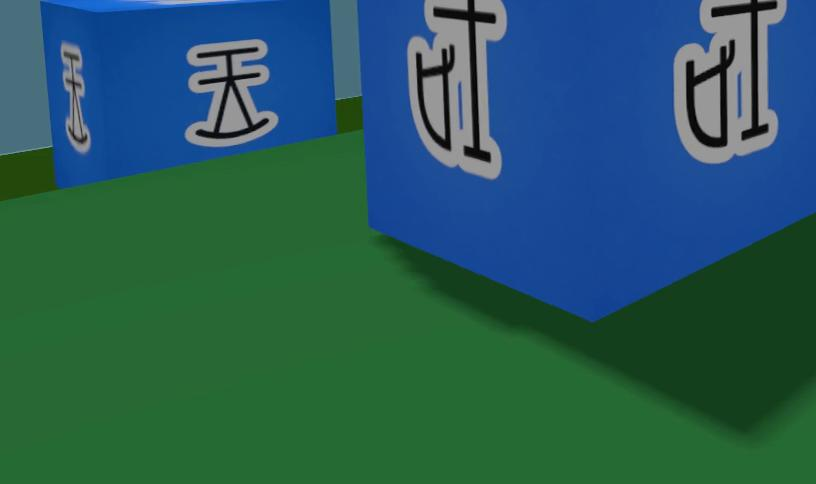KFS_REAL: (357, 0, 816, 320), (39, 0, 335, 187), (676, 0, 787, 162), (408, 0, 506, 178), (185, 42, 274, 146), (61, 41, 89, 153)
